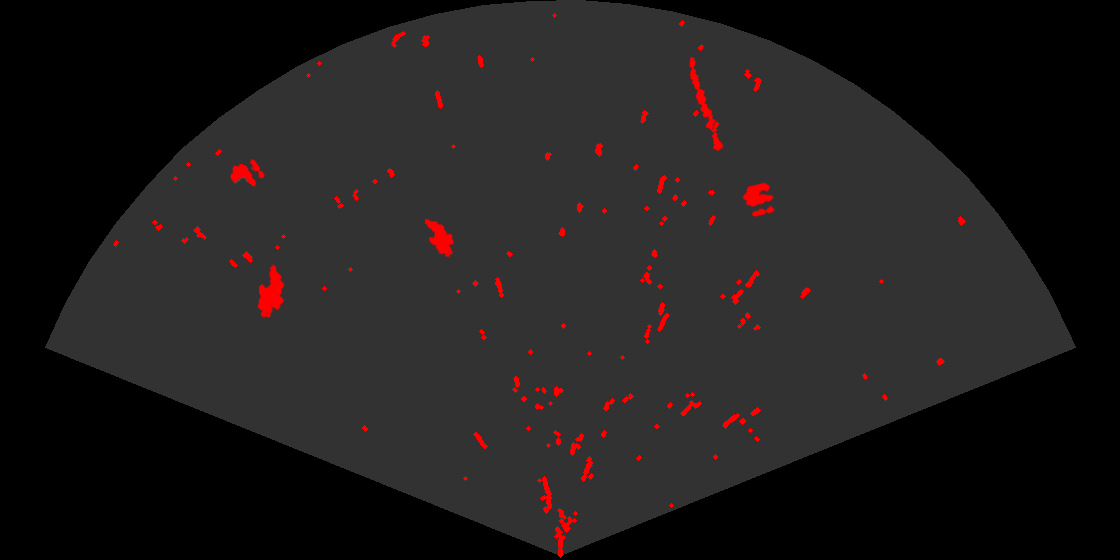AUV: (256, 263, 286, 320), (423, 217, 456, 259)
ball: (741, 181, 776, 218), (229, 158, 266, 188)
chain: (688, 55, 725, 153)
